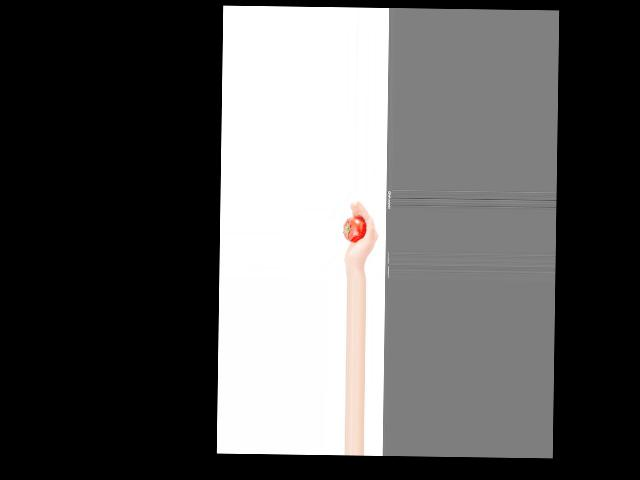tomato: (343, 217, 366, 243)
